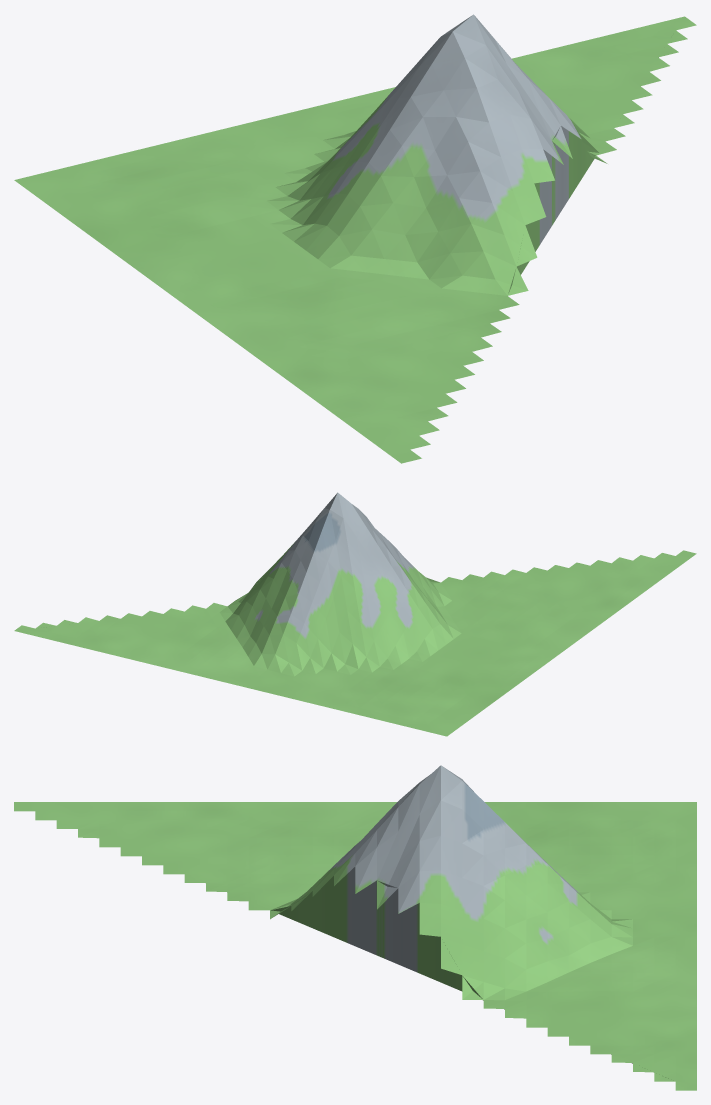
Rendered from Grass_RockyMountains_06_SW.obj.
The picture shows the model from 3 angles, top to bottom: view 1: azimuth 30°, elevation 25°; view 2: azimuth 150°, elevation 25°; view 3: azimuth 270°, elevation 25°; orthographic projection. The views are drawn at different scales.
Size of the model in its own units: 10 by 2.78 by 10.
1 material, 1 textured.
